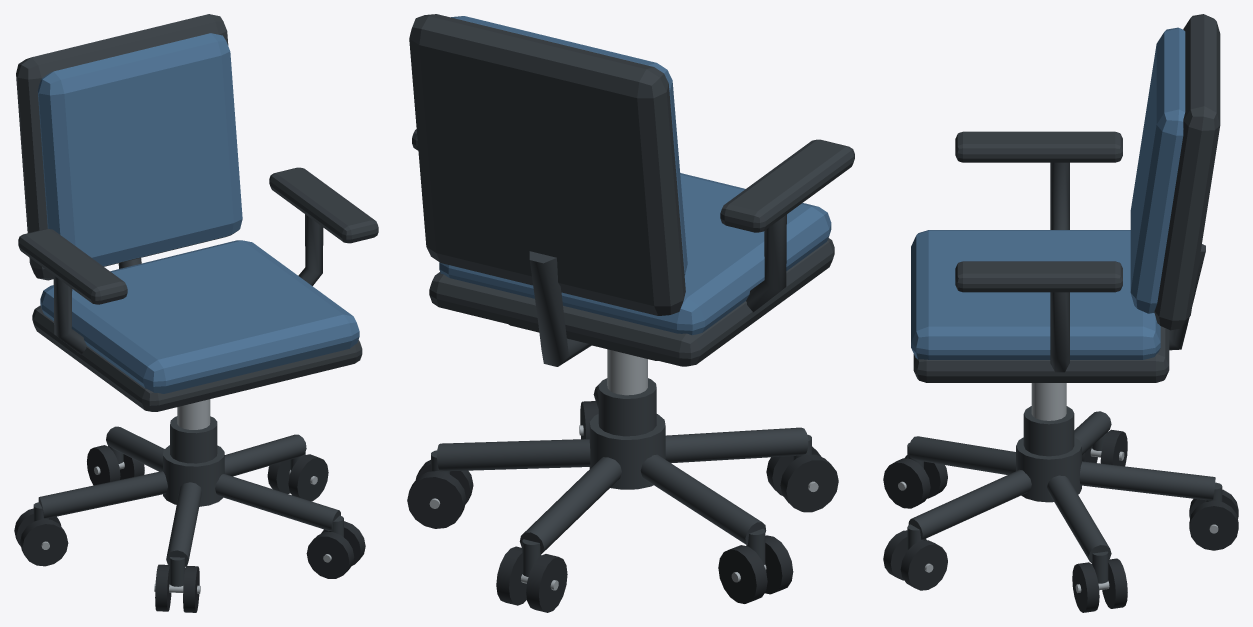
The model's file is chair_office_swivel.glb.
The picture shows the model from 3 angles, left to right: view 1: azimuth 30°, elevation 25°; view 2: azimuth 150°, elevation 25°; view 3: azimuth 270°, elevation 25°; orthographic projection. The views are drawn at different scales.
Visible parts, largest first — view 1: OfficeChair_Back_Cushion, OfficeChair_Seat_Cushion, OfficeChair_Back_Shell, OfficeChair_Seat_Base, OfficeChair_Arm_Pad.001, OfficeChair_Arm_Pad, OfficeChair_Base_Spoke.001, OfficeChair_Base_Spoke.003, OfficeChair_Central_Base_Hub, OfficeChair_Base_Spoke.004, OfficeChair_Base_Spoke.002, OfficeChair_Column_Shroud (+12 smaller); view 2: OfficeChair_Back_Shell, OfficeChair_Seat_Cushion, OfficeChair_Seat_Base, OfficeChair_Arm_Pad, OfficeChair_Base_Spoke.004, OfficeChair_Base_Spoke.002, OfficeChair_Base_Spoke.001, OfficeChair_Back_Support, OfficeChair_Base_Spoke, OfficeChair_Central_Base_Hub, OfficeChair_Column_Shroud, OfficeChair_Caster_Wheel.009 (+9 smaller); view 3: OfficeChair_Seat_Cushion, OfficeChair_Back_Shell, OfficeChair_Back_Cushion, OfficeChair_Seat_Base, OfficeChair_Arm_Pad.001, OfficeChair_Arm_Pad, OfficeChair_Base_Spoke, OfficeChair_Base_Spoke.003, OfficeChair_Base_Spoke.002, OfficeChair_Central_Base_Hub, OfficeChair_Base_Spoke.004, OfficeChair_Column_Shroud (+13 smaller).
Boxes of the visible parts, left/top/right/bottom form: OfficeChair_Back_Cushion: left=37, top=33, right=242, bottom=266; OfficeChair_Seat_Cushion: left=40, top=240, right=359, bottom=393; OfficeChair_Back_Shell: left=16, top=14, right=238, bottom=280; OfficeChair_Seat_Base: left=32, top=305, right=362, bottom=411; OfficeChair_Arm_Pad.001: left=269, top=167, right=378, bottom=243; OfficeChair_Arm_Pad: left=18, top=228, right=127, bottom=304; OfficeChair_Base_Spoke.001: left=38, top=471, right=167, bottom=518; OfficeChair_Base_Spoke.003: left=215, top=474, right=340, bottom=530; OfficeChair_Central_Base_Hub: left=163, top=445, right=224, bottom=506; OfficeChair_Base_Spoke.004: left=224, top=434, right=306, bottom=476; OfficeChair_Base_Spoke.002: left=166, top=482, right=201, bottom=566; OfficeChair_Column_Shroud: left=170, top=416, right=217, bottom=463; OfficeChair_Back_Shell: left=409, top=14, right=685, bottom=315; OfficeChair_Seat_Cushion: left=439, top=173, right=831, bottom=335; OfficeChair_Seat_Base: left=429, top=238, right=834, bottom=366; OfficeChair_Arm_Pad: left=720, top=139, right=854, bottom=232; OfficeChair_Base_Spoke.004: left=437, top=439, right=590, bottom=471; OfficeChair_Base_Spoke.002: left=665, top=427, right=808, bottom=463; OfficeChair_Base_Spoke.001: left=640, top=454, right=766, bottom=545; OfficeChair_Back_Support: left=529, top=251, right=591, bottom=366; OfficeChair_Base_Spoke: left=519, top=457, right=621, bottom=554; OfficeChair_Central_Base_Hub: left=589, top=414, right=665, bottom=489; OfficeChair_Column_Shroud: left=598, top=378, right=656, bottom=436; OfficeChair_Caster_Wheel.009: left=407, top=471, right=466, bottom=528; OfficeChair_Seat_Cushion: left=911, top=230, right=1160, bottom=359; OfficeChair_Back_Shell: left=1154, top=14, right=1220, bottom=330; OfficeChair_Back_Cushion: left=1130, top=27, right=1185, bottom=313; OfficeChair_Seat_Base: left=913, top=326, right=1169, bottom=382; OfficeChair_Arm_Pad.001: left=955, top=261, right=1122, bottom=292; OfficeChair_Arm_Pad: left=955, top=131, right=1122, bottom=162; OfficeChair_Base_Spoke: left=1079, top=461, right=1215, bottom=500; OfficeChair_Base_Spoke.003: left=908, top=469, right=1031, bottom=539; OfficeChair_Base_Spoke.002: left=908, top=436, right=1015, bottom=474; OfficeChair_Central_Base_Hub: left=1016, top=437, right=1081, bottom=502; OfficeChair_Base_Spoke.004: left=1047, top=475, right=1111, bottom=562; OfficeChair_Column_Shroud: left=1023, top=406, right=1074, bottom=456.
Size of the model in its own units: 0.68 by 0.9663 by 0.6467.
